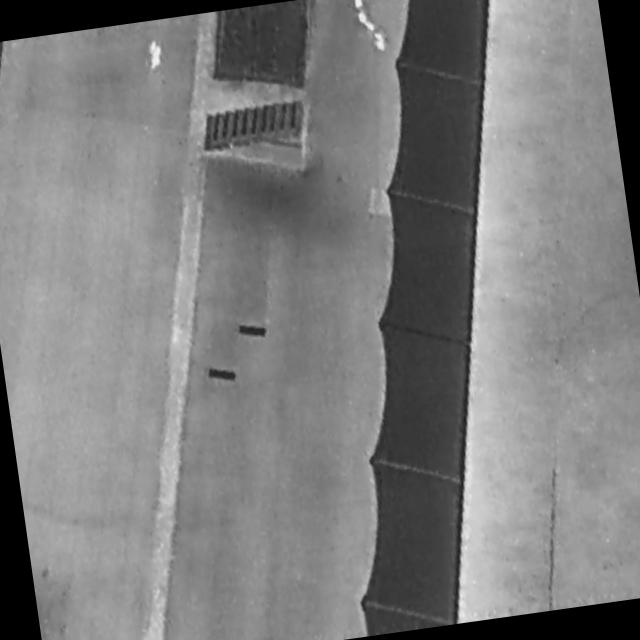person: (146, 37, 166, 73)
